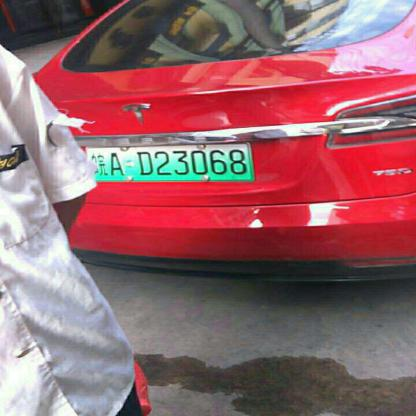lp: (88, 144, 252, 179)
